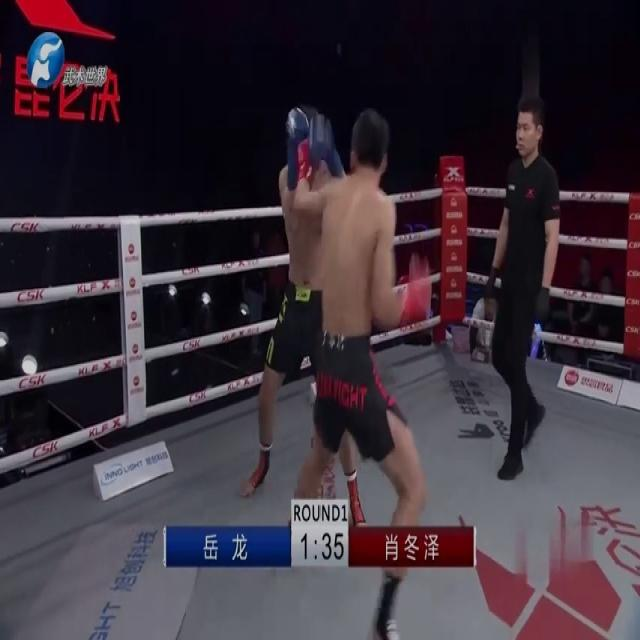fight: (248, 91, 421, 636)
non-fight: (464, 85, 568, 484)
